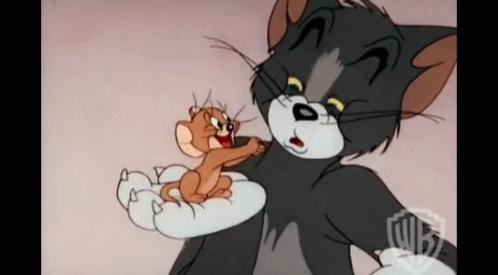jerry: (159, 88, 268, 207)
